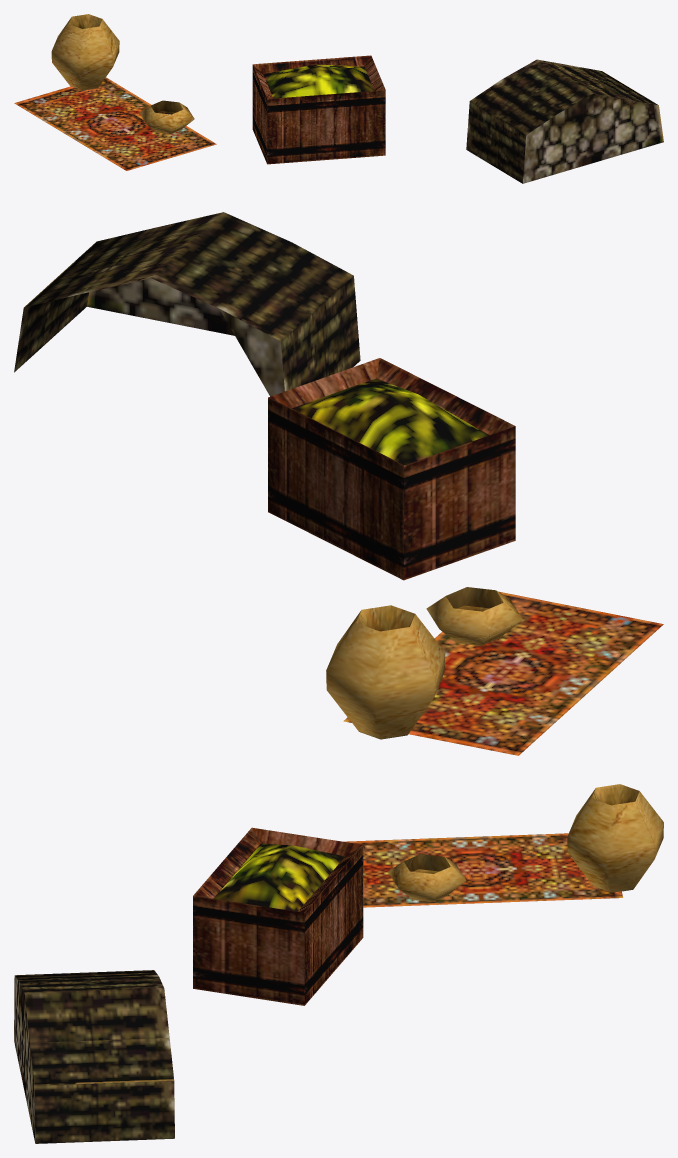
Rendered from pers_house_a_2.dae.
3 renders of one model, top to bottom at view 1: azimuth 30°, elevation 25°; view 2: azimuth 150°, elevation 25°; view 3: azimuth 270°, elevation 25°, orthographic. The views are drawn at different scales.
Parts seen in each view (by area): view 1: Mesh01-Pivot; view 2: Mesh01-Pivot; view 3: Mesh01-Pivot.
Boxes of the visible parts, box(x1,y1,x2,y2) form: Mesh01-Pivot: box(14, 14, 663, 183); Mesh01-Pivot: box(14, 212, 663, 755); Mesh01-Pivot: box(14, 784, 663, 1143).
Bounding box in the file's own units: 11.31 × 9.98 × 1.85.
